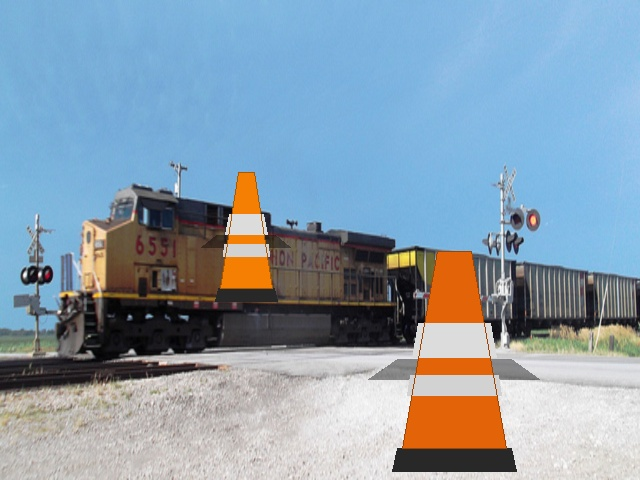traffic-cone: (392, 251, 516, 471), (215, 172, 277, 301)
